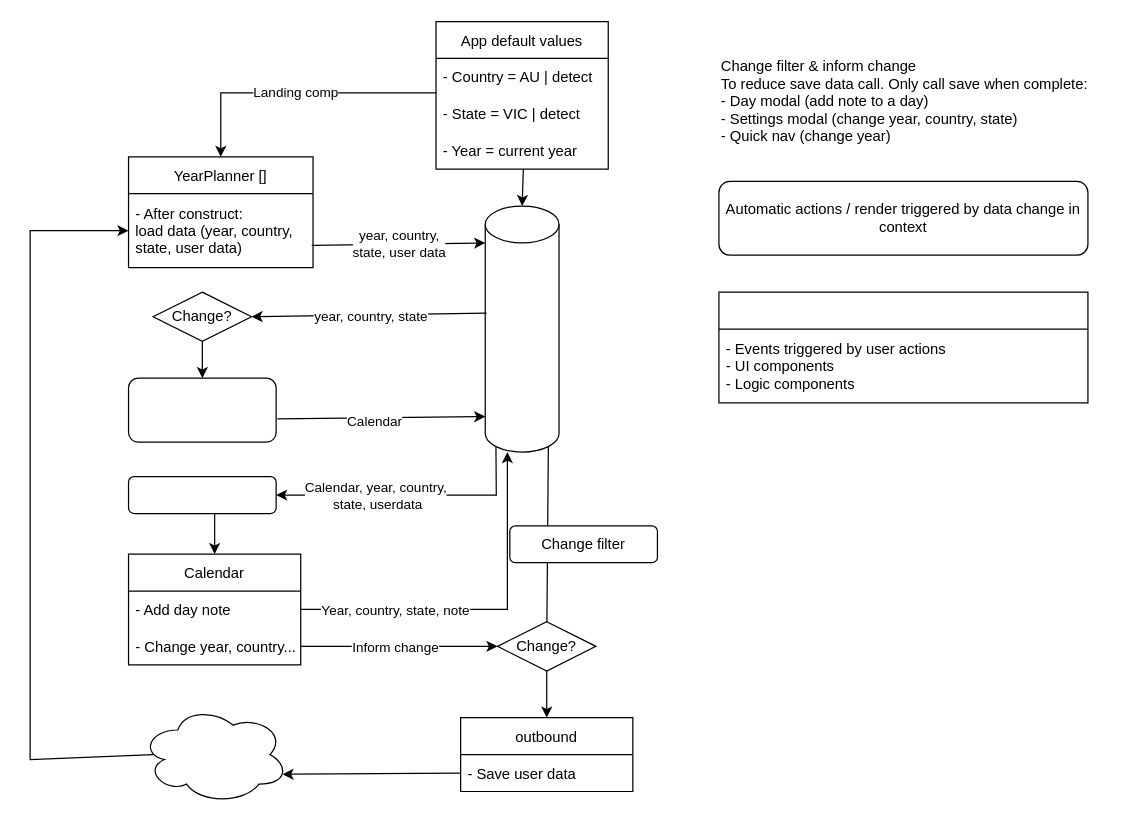
The diagram is 1134 pixels wide and 825 high, and some of its shapes have lost their labels. The shapes that lost their labels are listed below. From the top down, each one's box as (x1, y1, x2, y2) in pixels, then its label:
(484, 205, 559, 452): Context
(718, 291, 1088, 403): Component / Useraction
(127, 377, 276, 442): Generate Calendar
(127, 475, 276, 514): render
